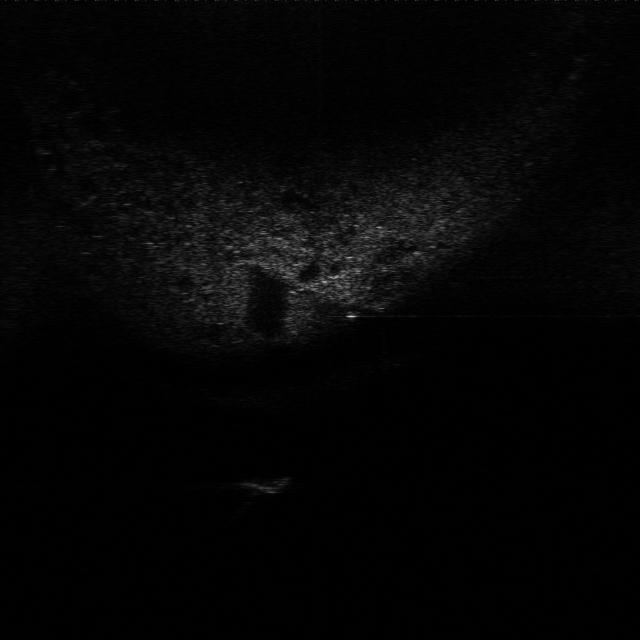cube: (240, 470, 296, 502)
